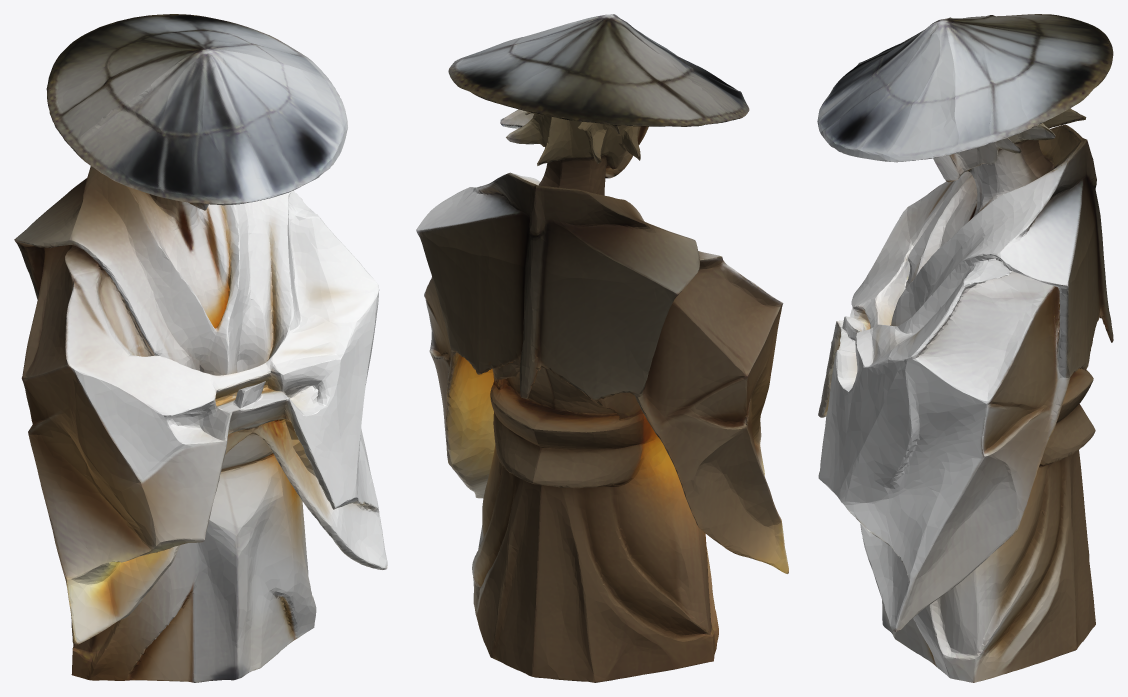
The model's file is origami_samurai_s21.glb.
The picture shows the model from 3 angles, left to right: view 1: azimuth 30°, elevation 25°; view 2: azimuth 150°, elevation 25°; view 3: azimuth 270°, elevation 25°; orthographic projection.
Visible parts, largest first — view 1: geometry_0; view 2: geometry_0; view 3: geometry_0.
Boxes of the visible parts, x1=… form: geometry_0: x1=14, y1=14, x2=387, y2=682; geometry_0: x1=416, y1=14, x2=788, y2=682; geometry_0: x1=817, y1=14, x2=1113, y2=682.
Size of the model in its own units: 0.5614 by 1 by 0.4452.
1 material, 1 textured.
